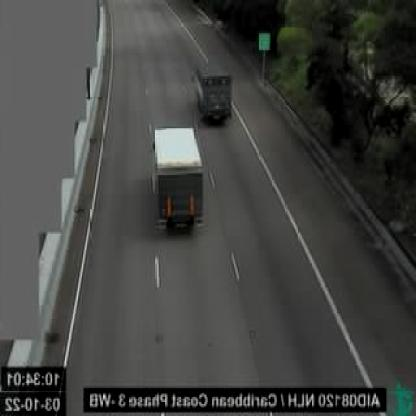Truck: (156, 123, 202, 229), (196, 62, 233, 122)
